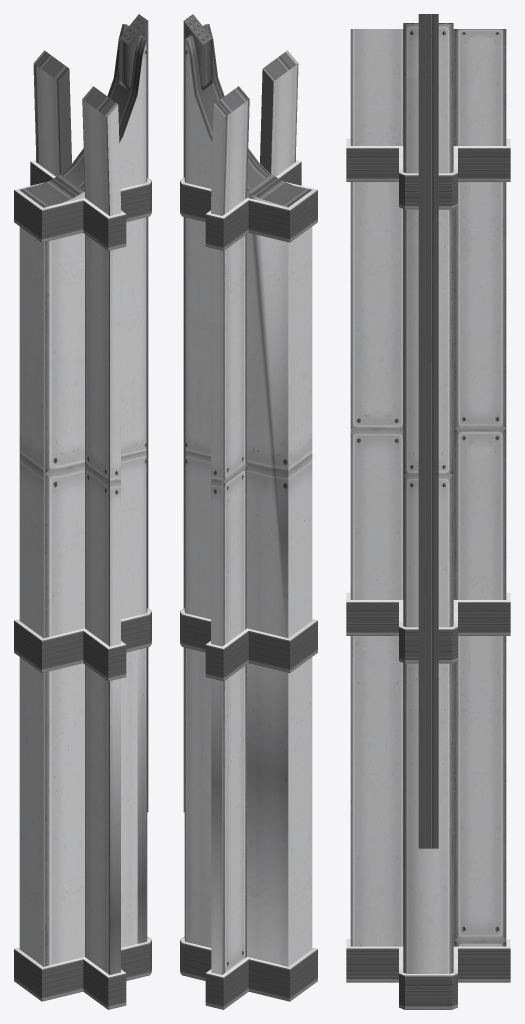
Rendered from CitCouncil_HandRail_post.FBX.
3 views of the same model, side by side, from view 1: azimuth 30°, elevation 25°; view 2: azimuth 150°, elevation 25°; view 3: azimuth 270°, elevation 25° (orthographic). The views are drawn at different scales.
Parts seen in each view (by area): view 1: CitCouncil_HandRail_post; view 2: CitCouncil_HandRail_post; view 3: CitCouncil_HandRail_post.
Part boxes in pixels (bbox=[...]): CitCouncil_HandRail_post: bbox=[14, 14, 151, 1009]; CitCouncil_HandRail_post: bbox=[180, 14, 317, 1009]; CitCouncil_HandRail_post: bbox=[346, 14, 510, 1009].
Size of the model in its own units: 0.2292 by 1.79 by 0.2679.
